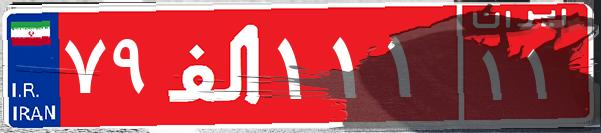1: (385, 28, 445, 110), (273, 28, 330, 110), (330, 28, 385, 110), (475, 38, 525, 113), (525, 38, 570, 115)
7: (57, 26, 110, 107)
9: (110, 28, 158, 105)
الف: (158, 15, 273, 115)
